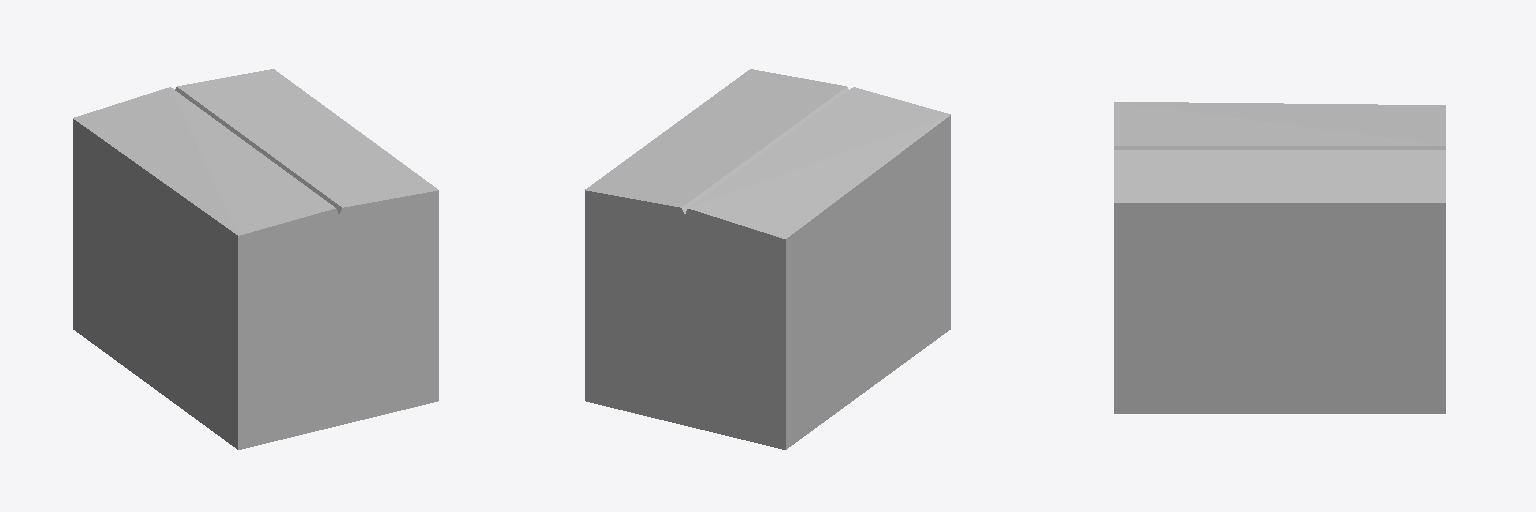
File: sd_prop_cardboardbox.obj
3 views of the same model, side by side, from view 1: azimuth 30°, elevation 25°; view 2: azimuth 150°, elevation 25°; view 3: azimuth 270°, elevation 25° (orthographic).
Parts seen in each view (by area): view 1: pCube1; view 2: pCube1; view 3: pCube1.
Part boxes in pixels (x1,y1,x2,y2): pCube1: (73, 69, 438, 449); pCube1: (585, 69, 950, 449); pCube1: (1114, 102, 1445, 413).
Size of the model in its own units: 7 by 7.25 by 10.